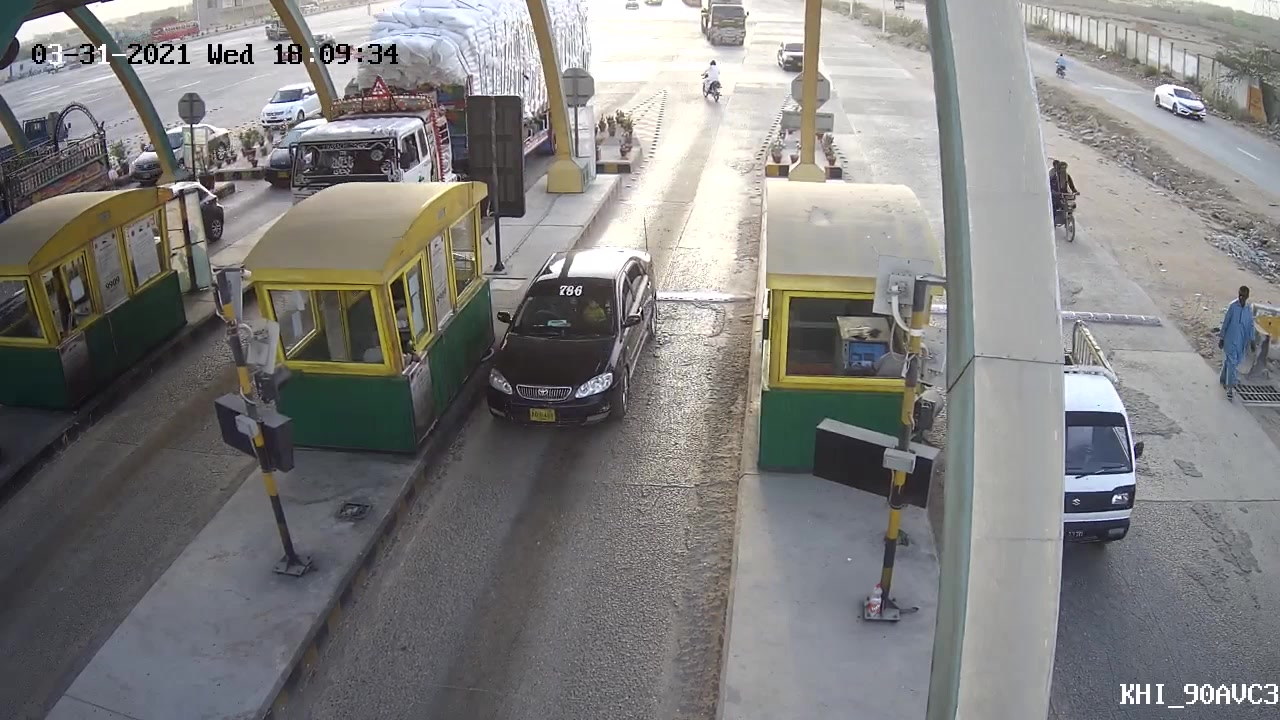F1: (476, 244, 672, 431)
